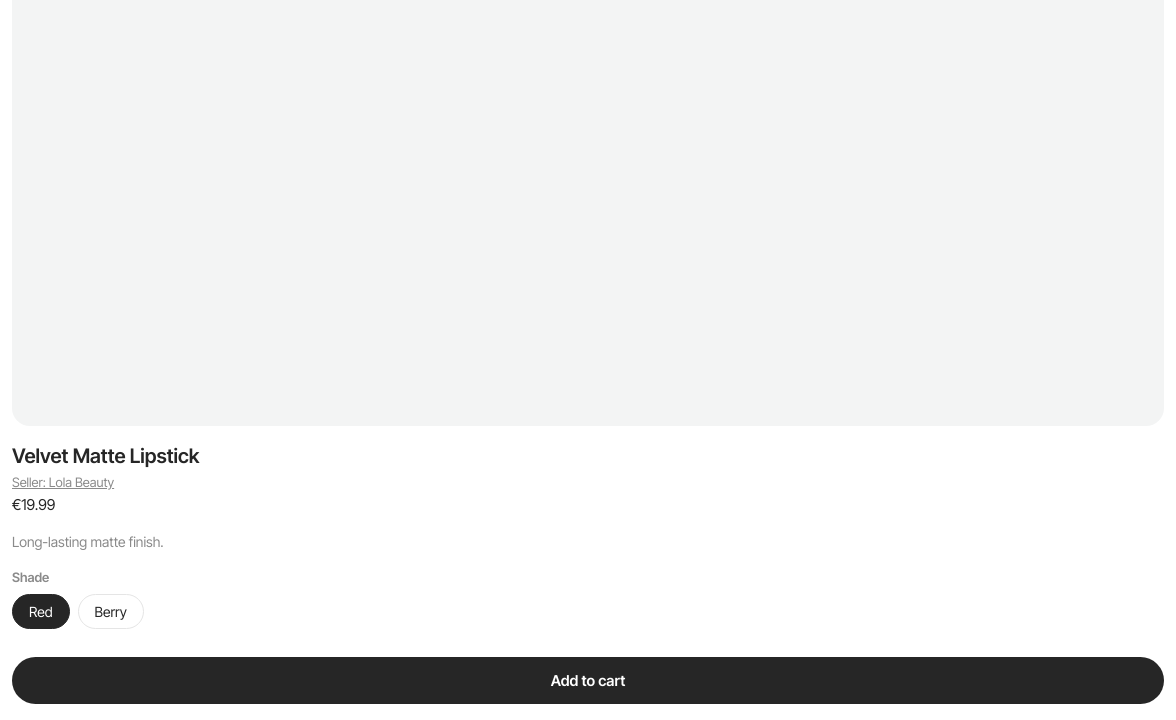
Test: ProductDetailScreen › updates the price when another variant is picked
The image size is (1176, 720).
(page scrolled)
Check: the heading "Velvet Matte Lipstick" is shown, box x1=12 y1=444 x2=200 y2=468
Click the button "berry" at (111, 612), box x1=78 y1=594 x2=144 y2=629
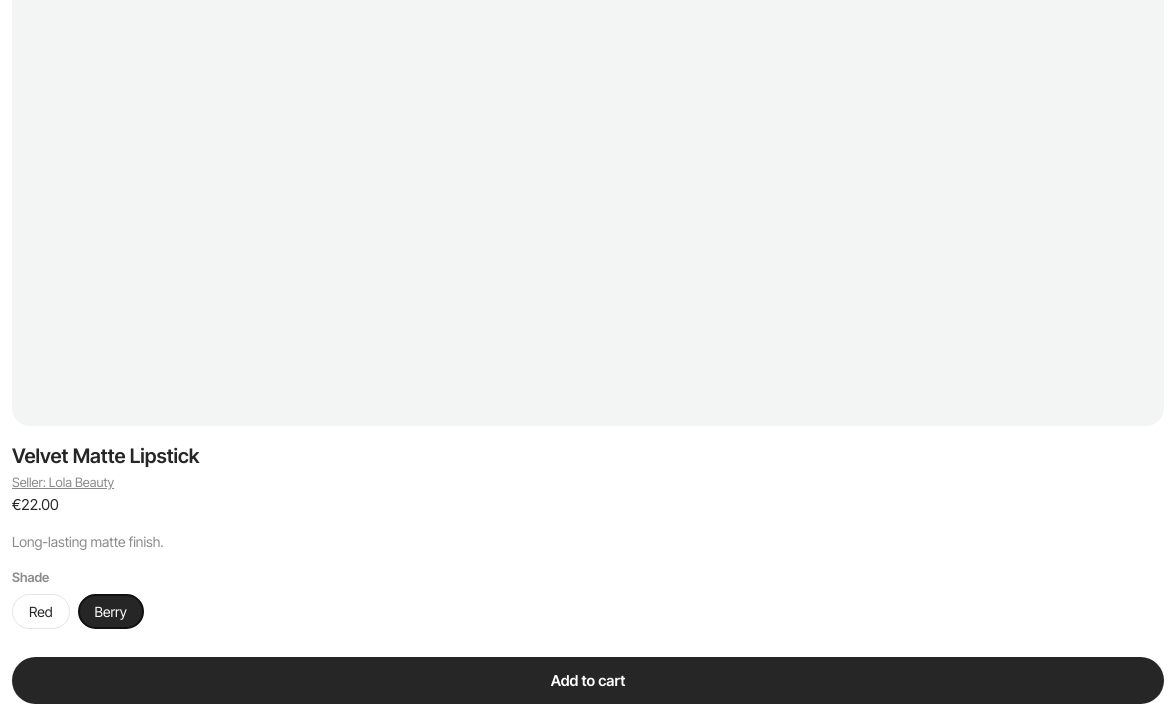
Check: the text "€22.00" is shown, box x1=12 y1=495 x2=59 y2=514
